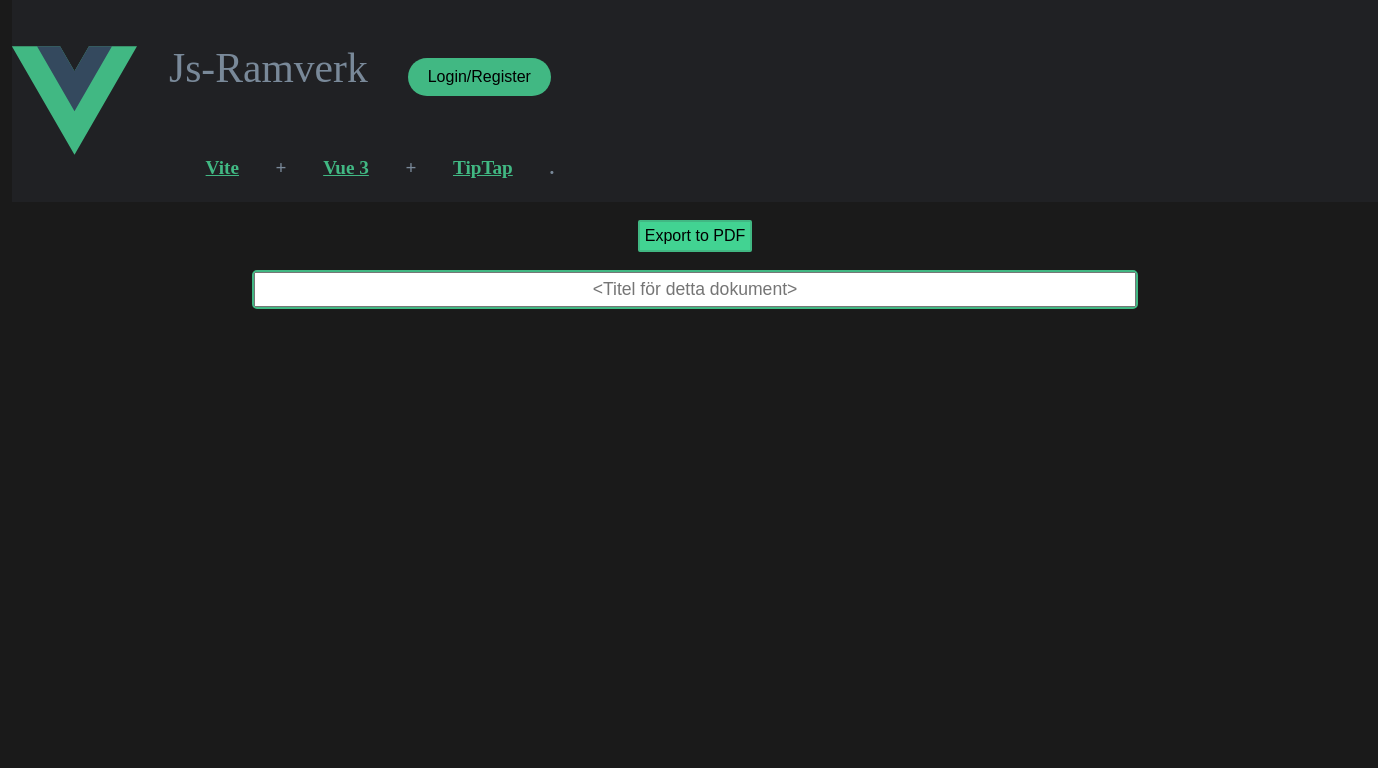
Test: My first tests › Edit title and body in a new document
The image size is (1378, 768).
Step 1. Click the button "Login/Register" → (480, 77), box [408,58,551,96]
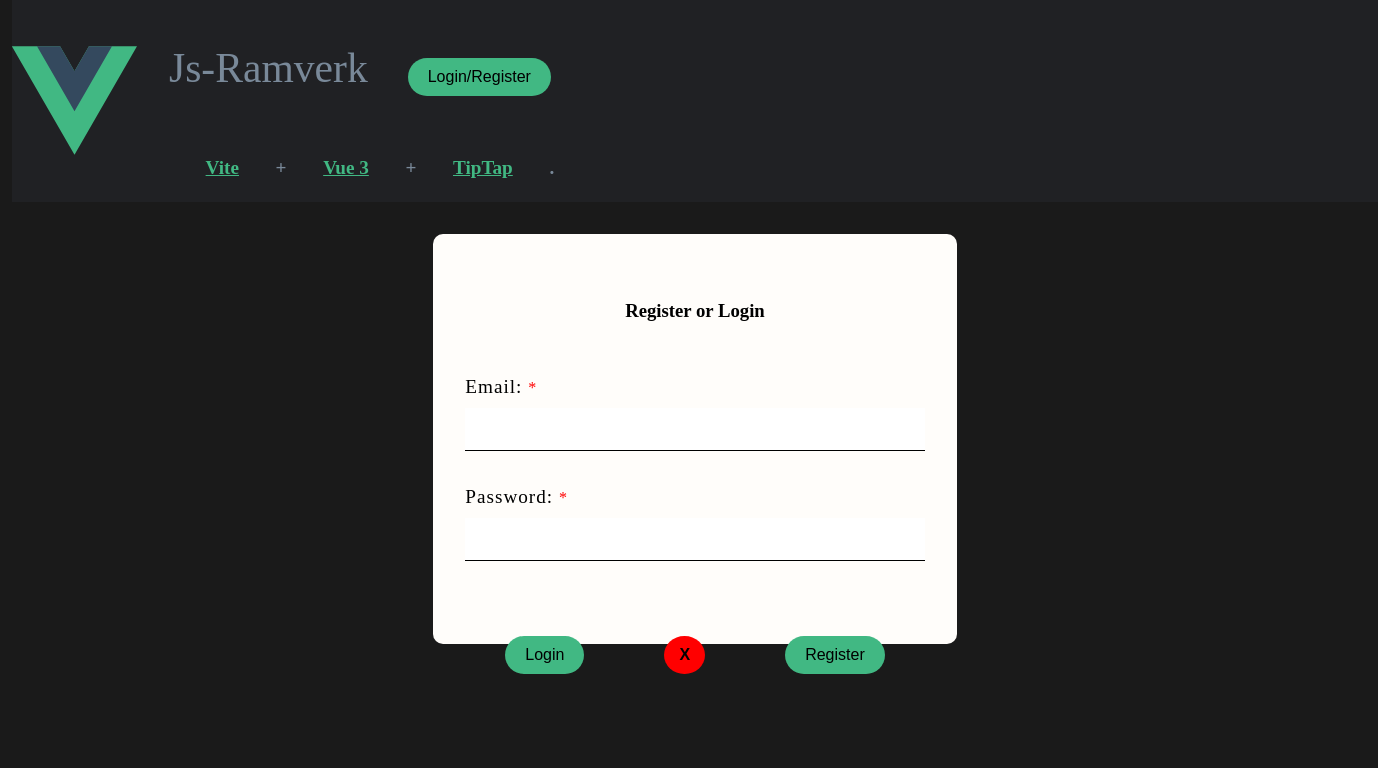
Expected: the text "Email" is shown, [465,376,537,398]
Expected: the text "Password" is shown, [465,486,568,508]
Expected: the button "X" is shown, [664,636,705,674]
